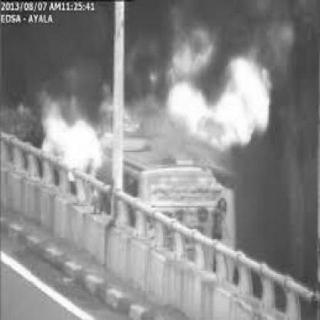Fire: (169, 43, 271, 149), (34, 86, 110, 177)
